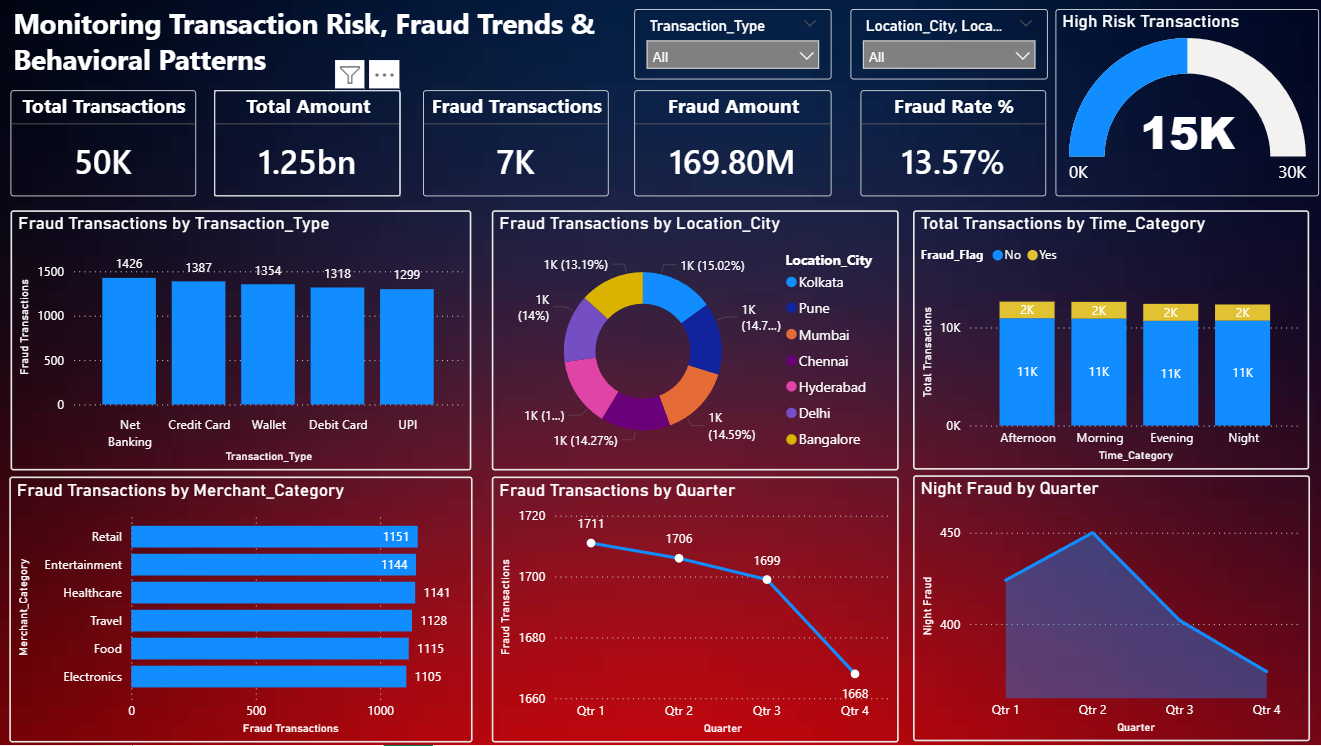

The page's visual inventory and layout, read from the dashboard file:
{"tool":"powerbi","page":{"name":"Fraud Intelligence Dashboard","canvas":[1280,720],"ordinal":0},"visuals":[{"type":"cardVisual","title":"Total Transactions","fields":{"Data":["Fraud_Transactions.Total Transactions"]},"box":[11.7,88,179,102.4],"z":0},{"type":"cardVisual","title":"Total Amount","fields":{"Data":["Fraud_Transactions.Total Amount"]},"box":[208.2,88.2,180,102.4],"z":1000},{"type":"cardVisual","title":"Fraud Rate %","fields":{"Data":["Fraud_Transactions.Fraud Rate %"]},"box":[832.9,87.8,179.3,102.4],"z":2000},{"type":"cardVisual","title":"Fraud Transactions","fields":{"Data":["Fraud_Transactions.Fraud Transactions"]},"box":[409.8,87.8,179.3,102.4],"z":3000},{"type":"cardVisual","title":"Fraud Amount","fields":{"Data":["Fraud_Transactions.Fraud Amount"]},"box":[614.6,87.8,190.2,102.4],"z":4000},{"type":"slicer","fields":{"Values":["Fraud_Transactions.Transaction_Type"]},"box":[614.1,9.4,190.6,68.2],"z":5000},{"type":"slicer","fields":{"Values":["Fraud_Transactions.Location_City","Fraud_Transactions.Location_City"]},"box":[822.3,9.6,190.4,68.1],"z":6000},{"type":"clusteredColumnChart","fields":{"Category":["Fraud_Transactions.Transaction_Type"],"Y":["Fraud_Transactions.Fraud Transactions"]},"box":[12.2,203.7,445.1,251.2],"z":7000},{"type":"donutChart","fields":{"Y":["Fraud_Transactions.Fraud Transactions"],"Category":["Fraud_Transactions.Location_City"]},"box":[476.8,203.7,392.7,251.2],"z":8000},{"type":"columnChart","title":"Total Transactions by Time_Category ","fields":{"Category":["Fraud_Transactions.Time_Category"],"Y":["Fraud_Transactions.Total Transactions"],"Series":["Fraud_Transactions.Fraud_Flag"]},"box":[882.7,203.7,382.7,250.6],"z":9000},{"type":"barChart","fields":{"Category":["Fraud_Transactions.Merchant_Category"],"Y":["Fraud_Transactions.Fraud Transactions"]},"box":[11.1,460.5,446.9,256.8],"z":10000},{"type":"gauge","fields":{"Y":["Fraud_Transactions.High Risk Transactions"]},"box":[1020.5,9.6,254.2,180.7],"z":11000},{"type":"lineChart","fields":{"Y":["Fraud_Transactions.Fraud Transactions"],"Category":["Fraud_Transactions.Transaction_Date.Variation.Date Hierarchy.Quarter"]},"box":[476.5,460.5,392.6,256.8],"z":12000},{"type":"areaChart","fields":{"Category":["Fraud_Transactions.Transaction_Date.Variation.Date Hierarchy.Quarter"],"Y":["Fraud_Transactions.Night Fraud"]},"box":[883,460,383,257],"z":13000},{"type":"textbox","box":[10,0,604.4,101.1],"z":13001}]}

Visuals, with their boxes in screenshot pixels (x1, y1, x2, y2), scaled from the page's 1280x720 canvas onto the 1321x746 screenshot:
"Total Transactions" cardVisual: 12:91:197:197
"Total Amount" cardVisual: 215:91:401:197
"Fraud Rate %" cardVisual: 860:91:1045:197
"Fraud Transactions" cardVisual: 423:91:608:197
"Fraud Amount" cardVisual: 634:91:831:197
slicer - Fraud_Transactions.Transaction_Type: 634:10:830:80
slicer - Fraud_Transactions.Location_City x Fraud_Transactions.Location_City: 849:10:1045:81
clusteredColumnChart - Fraud_Transactions.Transaction_Type x Fraud_Transactions.Fraud Transactions: 13:211:472:471
donutChart - Fraud_Transactions.Fraud Transactions x Fraud_Transactions.Location_City: 492:211:897:471
"Total Transactions by Time_Category " columnChart: 911:211:1306:471
barChart - Fraud_Transactions.Merchant_Category x Fraud_Transactions.Fraud Transactions: 11:477:473:743
gauge - Fraud_Transactions.High Risk Transactions: 1053:10:1316:197
lineChart - Fraud_Transactions.Fraud Transactions x Fraud_Transactions.Transaction_Date.Variation.Date Hierarchy.Quarter: 492:477:897:743
areaChart - Fraud_Transactions.Transaction_Date.Variation.Date Hierarchy.Quarter x Fraud_Transactions.Night Fraud: 911:477:1307:743
textbox: 10:0:634:105
